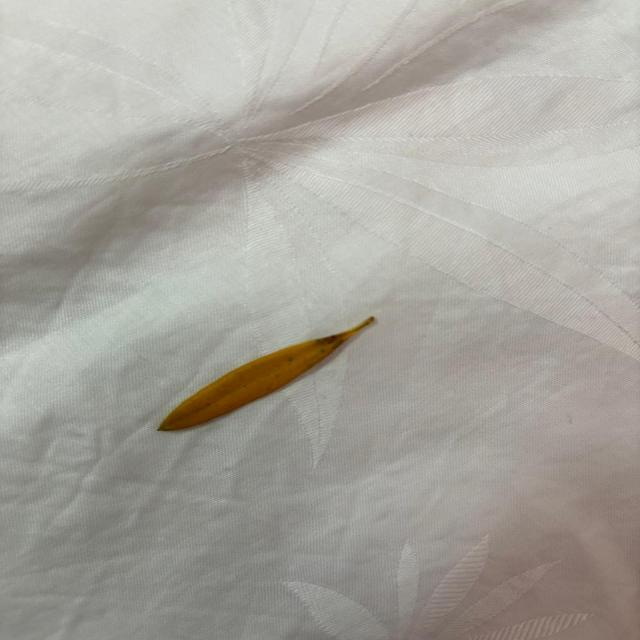Peacock Eye: (158, 316, 375, 432)
